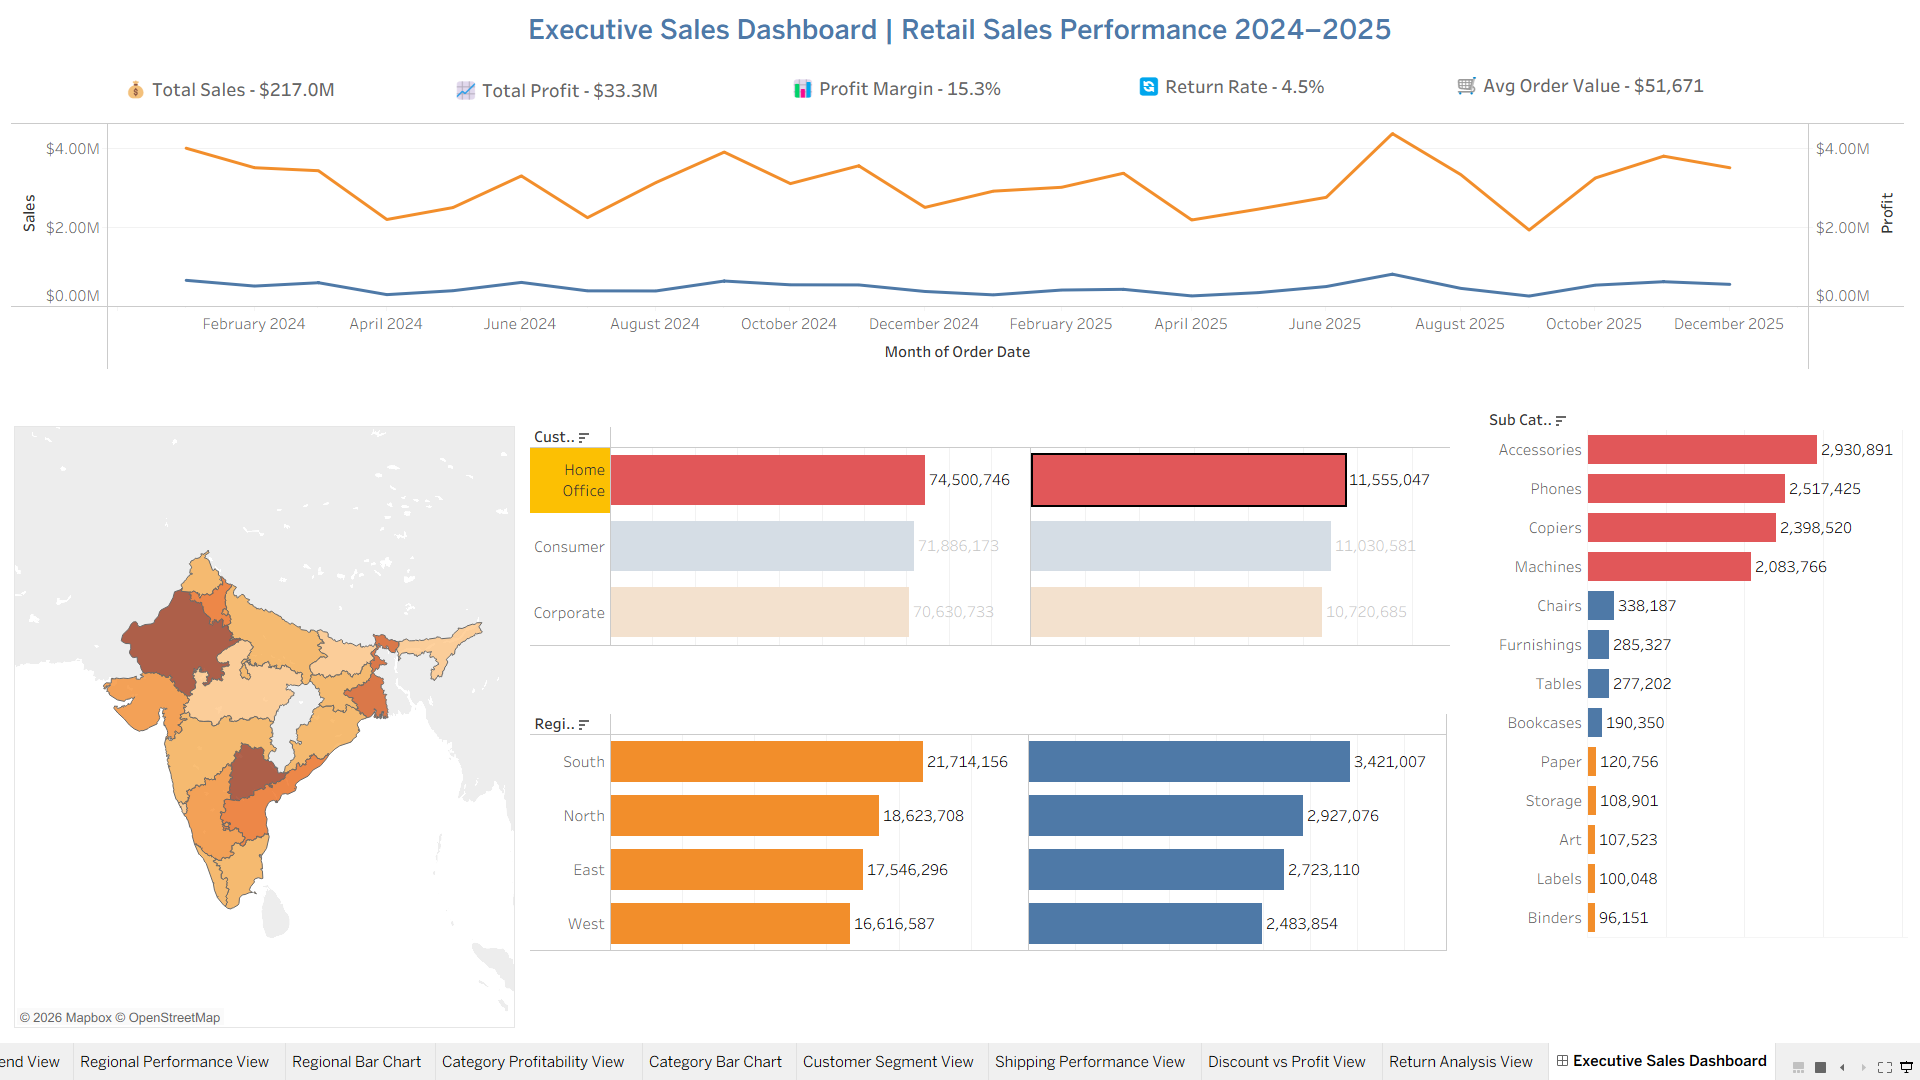

Layout of this report page (visuals, bound fields, positions):
{"tool":"tableau","page":{"name":"Executive Sales Dashboard","canvas":[1000,1000],"units":"permille","ordinal":0},"visuals":[{"type":"title","box":[4.9,8.8,990.2,48.3]},{"type":"text","box":[755.6,61.6,161.1,40.6]},{"type":"text","box":[590.2,62.7,124.9,40.6]},{"type":"text","box":[409.8,69.7,149.1,29]},{"type":"text","box":[62.8,70.9,149.1,29]},{"type":"text","box":[234.2,72,149.1,29]},{"type":"worksheet","title":"Sales Trend View","mark":"Line","rows":["sales","profit"],"cols":["order_date"],"box":[5.5,117.5,986.5,279.9]},{"type":"worksheet","title":"Category Bar Chart","mark":"Bar","rows":["sub_category"],"cols":["profit"],"box":[774.3,390.8,219.6,607]},{"type":"worksheet","title":"Regional Performance View","mark":"Multipolygon","box":[7.3,408.3,261.2,577.4]},{"type":"worksheet","title":"Customer Segment View","mark":"Bar","rows":["customer_segment"],"cols":["sales","profit"],"box":[275.8,409.4,479.5,273.3]}]}

Visuals, with their boxes on the dashboard's canvas, which has no fixed pixel size, in thousandths of its width and height (x1, y1, x2, y2). These are canvas units, not pixel positions in the 1920x1080 screenshot, which may show the page scaled, cropped or inside an application window:
title: bbox=[5, 9, 995, 57]
text: bbox=[756, 62, 917, 102]
text: bbox=[590, 63, 715, 103]
text: bbox=[410, 70, 559, 99]
text: bbox=[63, 71, 212, 100]
text: bbox=[234, 72, 383, 101]
"Sales Trend View" worksheet (Line marks): bbox=[6, 118, 992, 397]
"Category Bar Chart" worksheet (Bar marks): bbox=[774, 391, 994, 998]
"Regional Performance View" worksheet (Multipolygon marks): bbox=[7, 408, 268, 986]
"Customer Segment View" worksheet (Bar marks): bbox=[276, 409, 755, 683]
